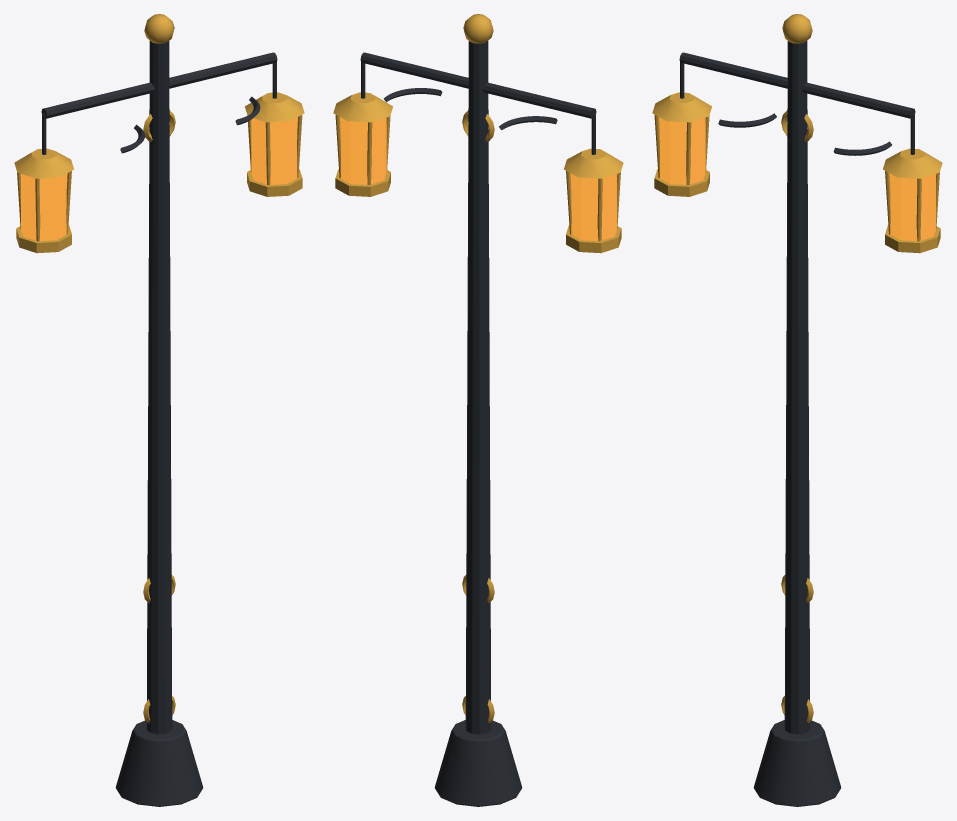
The model's file is mk_lamp_post.glb.
The picture shows the model from 3 angles, left to right: view 1: azimuth 30°, elevation 25°; view 2: azimuth 150°, elevation 25°; view 3: azimuth 330°, elevation 25°; orthographic projection.
Visible parts, largest first — view 1: mk_lamp_post_body; view 2: mk_lamp_post_body; view 3: mk_lamp_post_body.
Boxes of the visible parts, left/top/right/bottom form: mk_lamp_post_body: left=14, top=14, right=304, bottom=806; mk_lamp_post_body: left=333, top=14, right=623, bottom=806; mk_lamp_post_body: left=652, top=14, right=942, bottom=806.
Size of the model in its own units: 1.48 by 3.85 by 0.3948.
